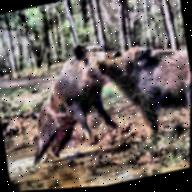boar: (19, 28, 128, 184), (93, 20, 192, 133)
